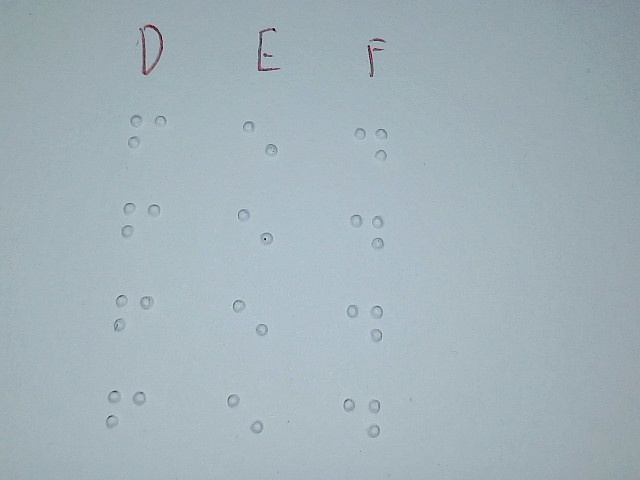D: (350, 111, 393, 182), (346, 199, 389, 270), (344, 289, 387, 360), (340, 383, 383, 454)
E: (240, 106, 281, 178), (235, 193, 276, 265), (231, 283, 272, 355), (225, 379, 266, 451)
F: (125, 99, 169, 165), (119, 187, 163, 253), (112, 281, 156, 347), (104, 376, 148, 442)
